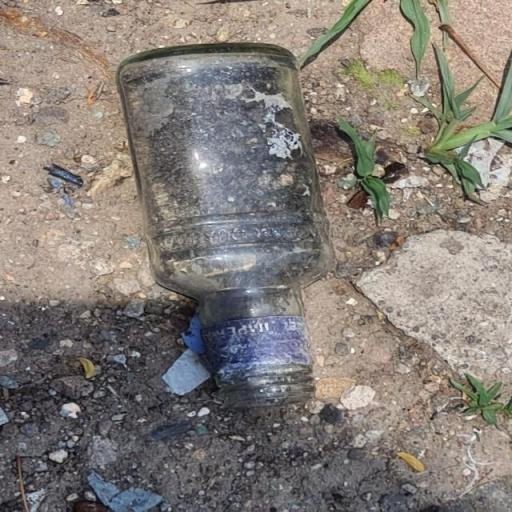glass: (106, 31, 334, 417)
